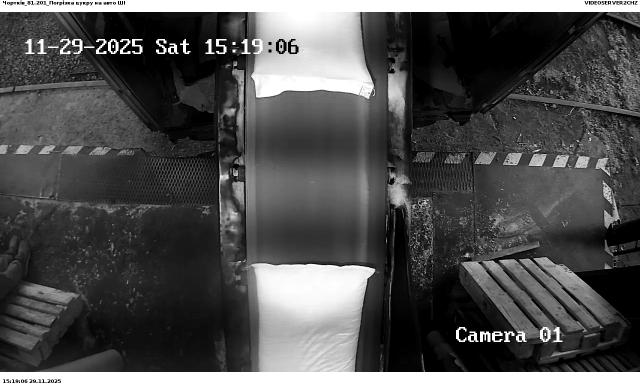bag: (252, 264, 376, 372), (256, 12, 376, 98)
